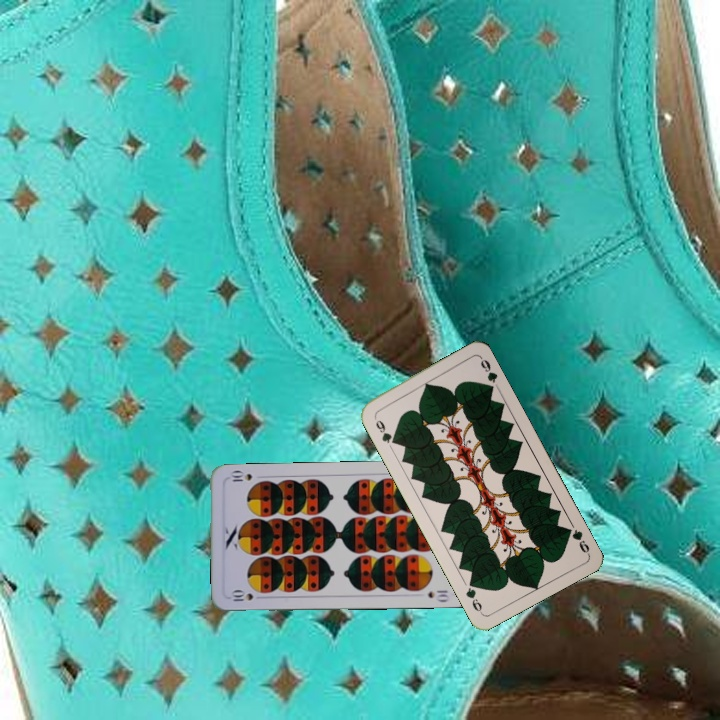G9: (561, 523, 592, 557), (370, 412, 399, 447)
S10: (226, 588, 266, 604)
